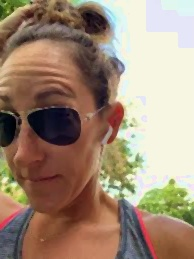earphone: (95, 102, 124, 148)
